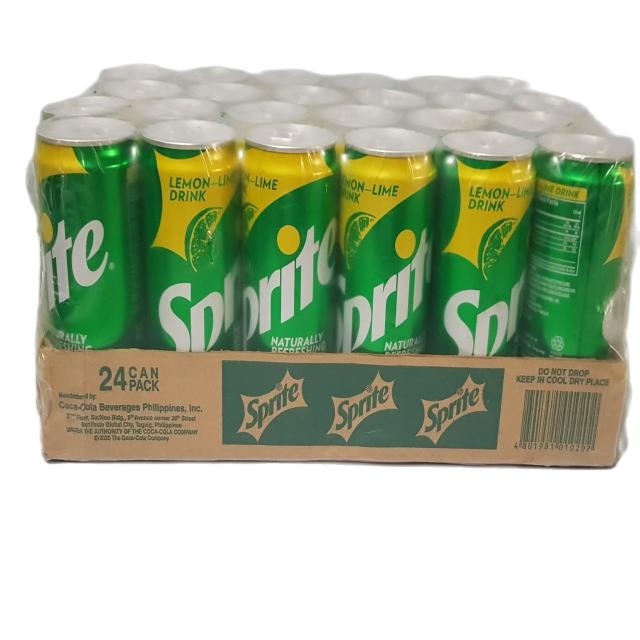sprite: (24, 127, 148, 379), (137, 113, 250, 353), (336, 133, 436, 369), (526, 140, 628, 360), (240, 129, 337, 354), (439, 145, 531, 356)
